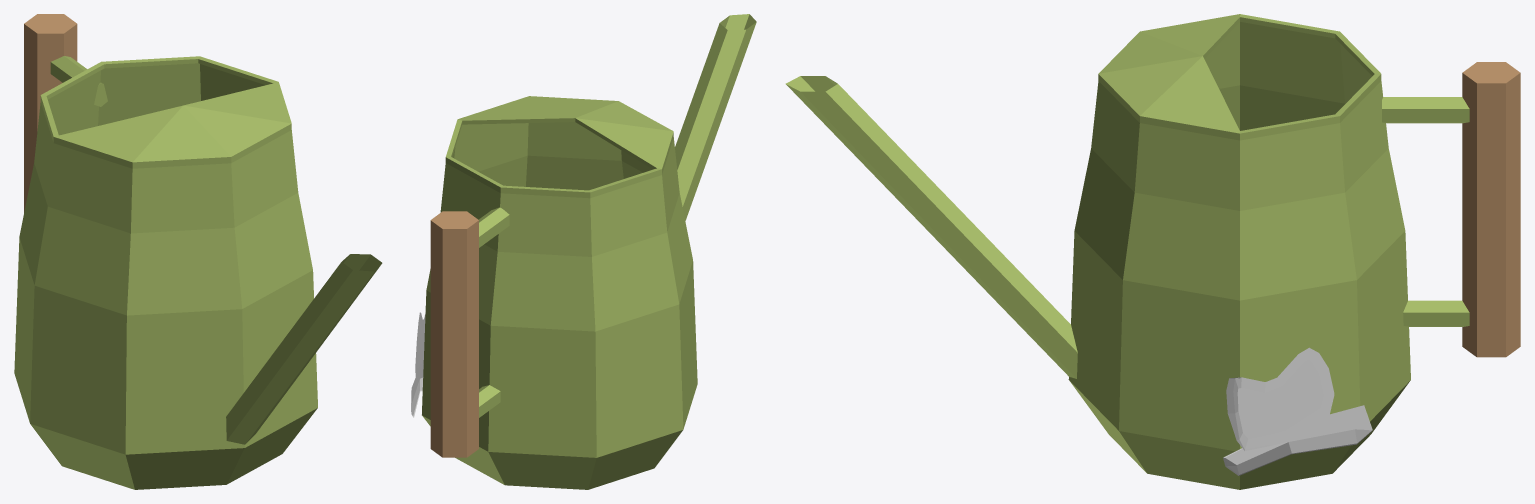
The model's file is Watering can.fbx.
The picture shows the model from 3 angles, left to right: view 1: azimuth 30°, elevation 25°; view 2: azimuth 150°, elevation 25°; view 3: azimuth 270°, elevation 25°; orthographic projection. The views are drawn at different scales.
Visible parts, largest first — view 1: Cylinder, Cylinder.001, Handle, Cylinder.003; view 2: Cylinder, Handle, Cylinder.001, Circle, Cylinder.003, Cylinder.004; view 3: Cylinder, Handle, Cylinder.001, Circle, Cylinder.003, Cylinder.004.
Boxes of the visible parts, x1,y1,x2,y2 form: Cylinder: (14, 56, 317, 489); Cylinder.001: (226, 254, 382, 444); Handle: (24, 14, 77, 212); Cylinder.003: (50, 56, 107, 106); Cylinder: (422, 96, 697, 489); Handle: (430, 211, 478, 457); Cylinder.001: (675, 14, 756, 220); Circle: (411, 312, 425, 417); Cylinder.003: (479, 207, 509, 247); Cylinder.004: (479, 385, 500, 417); Cylinder: (1068, 14, 1410, 489); Handle: (1462, 62, 1520, 357); Cylinder.001: (785, 76, 1077, 378); Circle: (1223, 347, 1372, 475); Cylinder.003: (1382, 97, 1469, 123); Cylinder.004: (1403, 300, 1469, 326).
Bounding box in the file's own units: 122 × 149 × 253.
